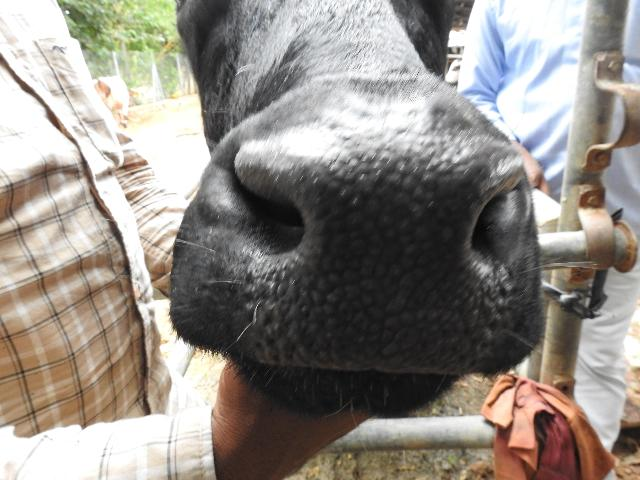Muzzle: (244, 144, 483, 370)
